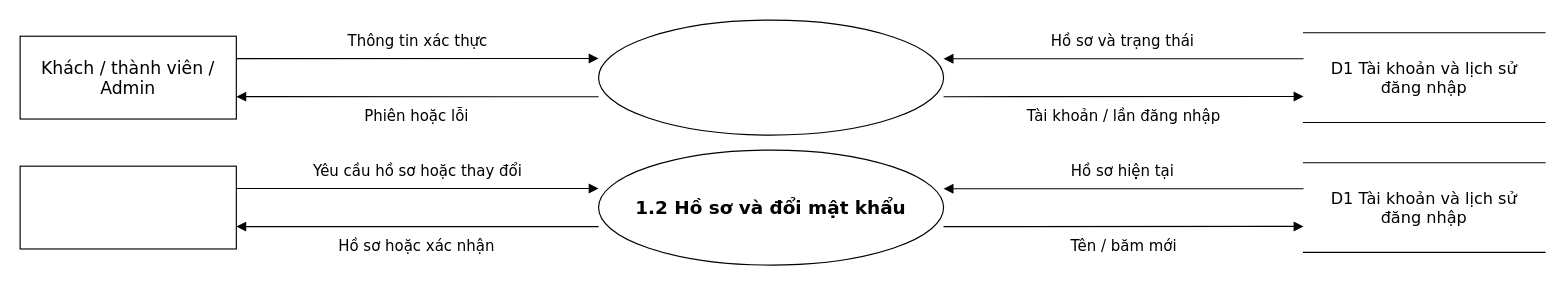
Some shapes in this 1565 by 285 pixel diagram are drawn without their labels. Here are the shapes that lost their labels. From the top down, the centre of each, then its label:
At point 770,77: "1.1 Đăng ký và đăng nhập".
At point 127,207: "Thành viên / Admin".
